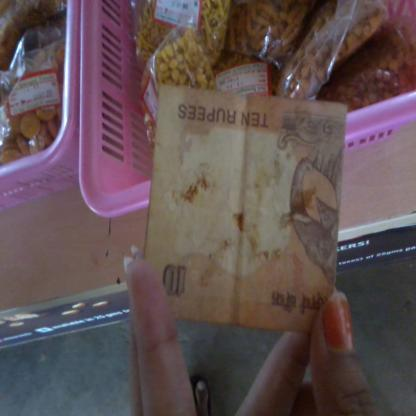Old10Back: (144, 82, 349, 334)
